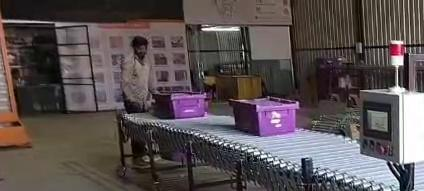box: (230, 97, 298, 135), (153, 92, 206, 118)
